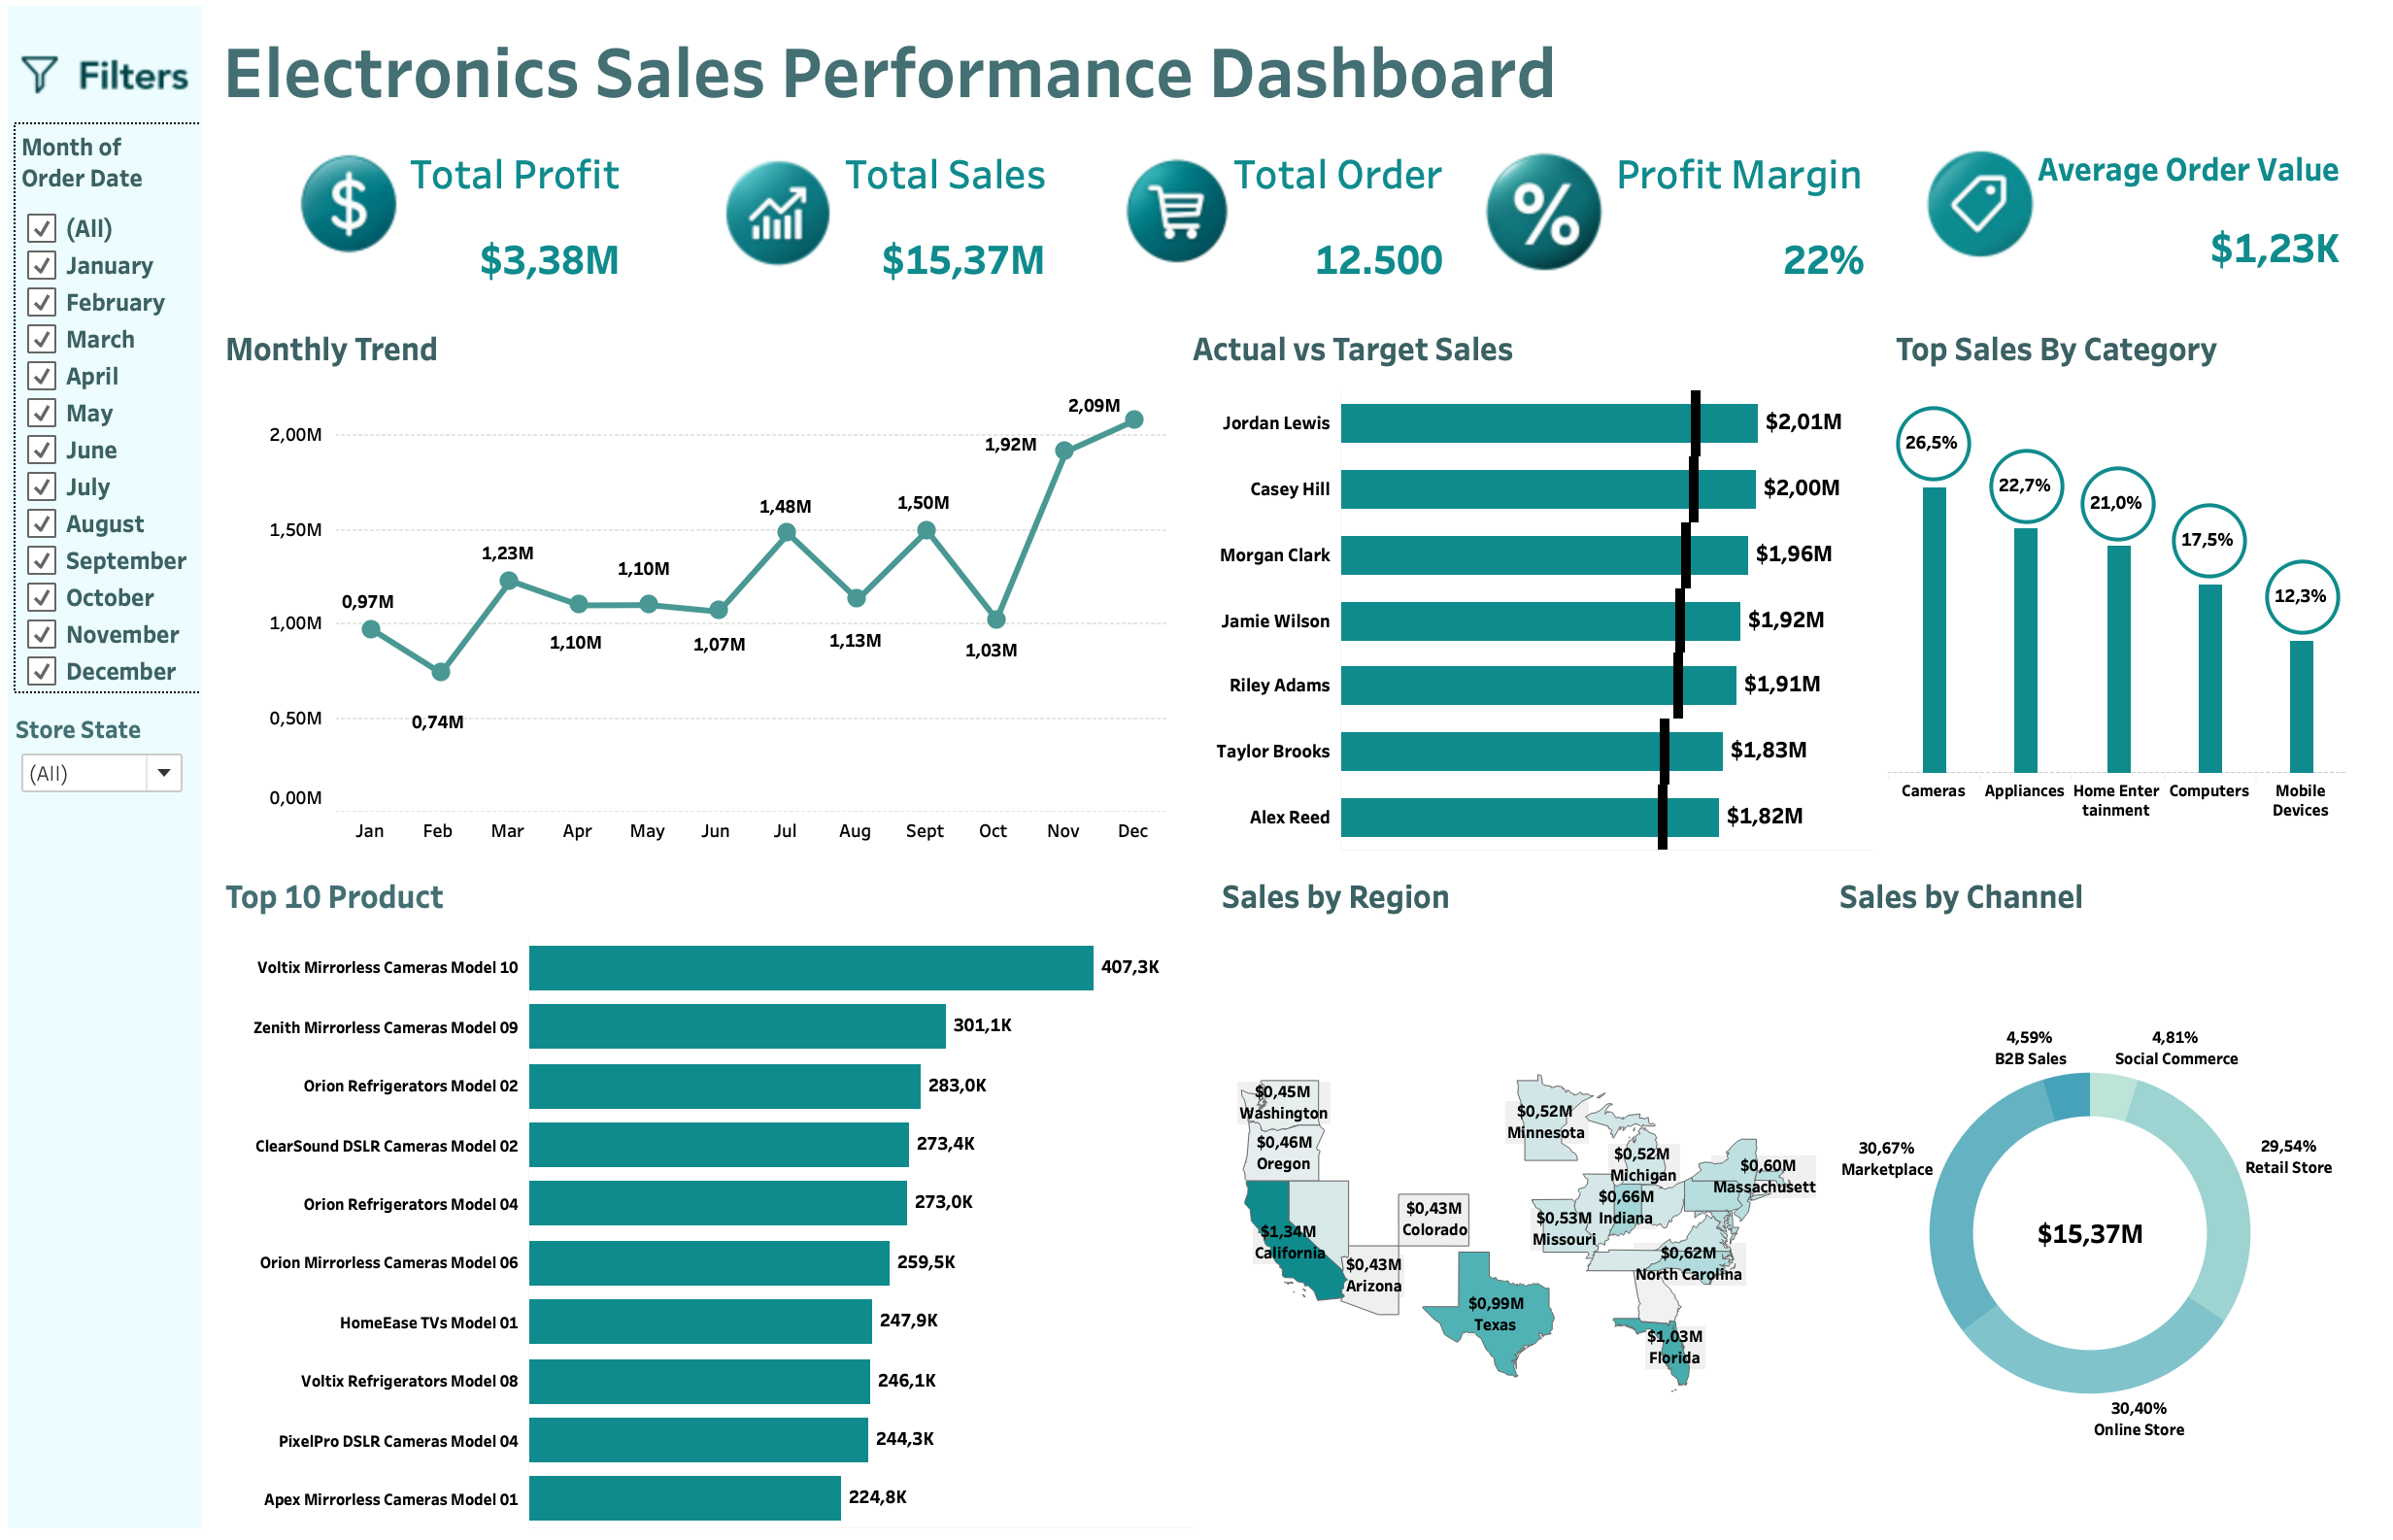

This screenshot's page, from the dashboard's own definition file:
{"tool":"tableau","page":{"name":"Dashboard 1","canvas":[1229,808],"ordinal":0},"visuals":[{"type":"blank","box":[8,8,108.4,792]},{"type":"text","box":[116.4,8,1104.6,72.7]},{"type":"image","param":"Image/ChatGPT_Image_1_Jun_2026__16.05.14-removebg-preview.png","box":[9.7,24,111.4,47]},{"type":"filter","title":"Monthly Trend","param":"[federated.0lpuut60k3j1j8183itd30oq1m3q].[mn:order_date:ok]","box":[14.5,72,96.8,294]},{"type":"worksheet","title":"Total Profit","mark":"Automatic","box":[116.4,80.7,219.7,88.3]},{"type":"worksheet","title":"Total Sales","mark":"Automatic","box":[336.1,80.7,218.8,88.3]},{"type":"worksheet","title":"Total Order","mark":"Automatic","box":[554.9,80.7,204.3,88.3]},{"type":"worksheet","title":"Profit Margin","mark":"Automatic","box":[759.2,80.7,216.9,88.3]},{"type":"worksheet","title":"Avg Order","mark":"Automatic","box":[976.1,80.7,244.9,88.3]},{"type":"image","param":"Image/ChatGPT_Image_1_Jun_2026__15.48.32__5_-removebg-preview.png","box":[983,81,89.1,69]},{"type":"image","param":"Image/ChatGPT_Image_1_Jun_2026__15.48.30__3_-removebg-preview.png","box":[746.7,82,114.3,75]},{"type":"image","param":"Image/ChatGPT_Image_1_Jun_2026__15.48.31__4_-removebg-preview.png","box":[149.2,84,78.4,61]},{"type":"image","param":"Image/ChatGPT_Image_1_Jun_2026__15.48.29__1_-removebg-preview.png","box":[370.9,85,74.6,69]},{"type":"image","param":"Image/ChatGPT_Image_1_Jun_2026__15.48.29__2_-removebg-preview.png","box":[561.7,85,103.6,70]},{"type":"worksheet","title":"Monthly Trend","mark":"Automatic","rows":["net_sales","net_sales"],"cols":["order_date"],"box":[116.4,169,497.6,282]},{"type":"worksheet","title":"Target Sales","mark":"Automatic","rows":["sales_rep"],"cols":["net_sales"],"box":[614,169,362.4,282]},{"type":"worksheet","title":"Top 5 Category","mark":"Automatic","rows":["Calculation_0099857243672578"],"cols":["category"],"box":[976.3,169,244.7,282]},{"type":"filter","title":"Sales by Region","param":"[federated.0lpuut60k3j1j8183itd30oq1m3q].[none:store_state:nk]","box":[16.5,376,89.1,44]},{"type":"worksheet","title":"Top 10 Product","mark":"Automatic","rows":["product_name"],"cols":["net_sales"],"box":[116.4,451,512.1,349]},{"type":"worksheet","title":"Sales by Region","mark":"Multipolygon","box":[628.5,451,318.9,349]},{"type":"worksheet","title":"Sales by Channel","mark":"Pie","rows":["Calculation_0114562511204353","Calculation_0114562511204353"],"box":[947.4,451,273.6,349]}]}

Visuals, with their boxes in screenshot pixels (x1, y1, x2, y2), scaled from the page's 1229x808 canvas onto the 2393x1540 screenshot:
blank: l=16, t=16, r=226, b=1524
text: l=226, t=16, r=2377, b=153
image: l=18, t=46, r=236, b=135
"Monthly Trend" filter: l=28, t=137, r=217, b=697
"Total Profit" worksheet: l=226, t=153, r=655, b=322
"Total Sales" worksheet: l=655, t=153, r=1081, b=322
"Total Order" worksheet: l=1081, t=153, r=1478, b=322
"Profit Margin" worksheet: l=1478, t=153, r=1901, b=322
"Avg Order" worksheet: l=1901, t=153, r=2377, b=322
image: l=1914, t=154, r=2087, b=285
image: l=1454, t=156, r=1676, b=299
image: l=290, t=160, r=443, b=277
image: l=723, t=162, r=867, b=293
image: l=1094, t=162, r=1296, b=295
"Monthly Trend" worksheet: l=226, t=322, r=1196, b=859
"Target Sales" worksheet: l=1196, t=322, r=1902, b=859
"Top 5 Category" worksheet: l=1901, t=322, r=2377, b=859
"Sales by Region" filter: l=32, t=717, r=206, b=800
"Top 10 Product" worksheet: l=226, t=859, r=1224, b=1524
"Sales by Region" worksheet (Multipolygon marks): l=1224, t=859, r=1844, b=1524
"Sales by Channel" worksheet (Pie marks): l=1844, t=859, r=2377, b=1524
